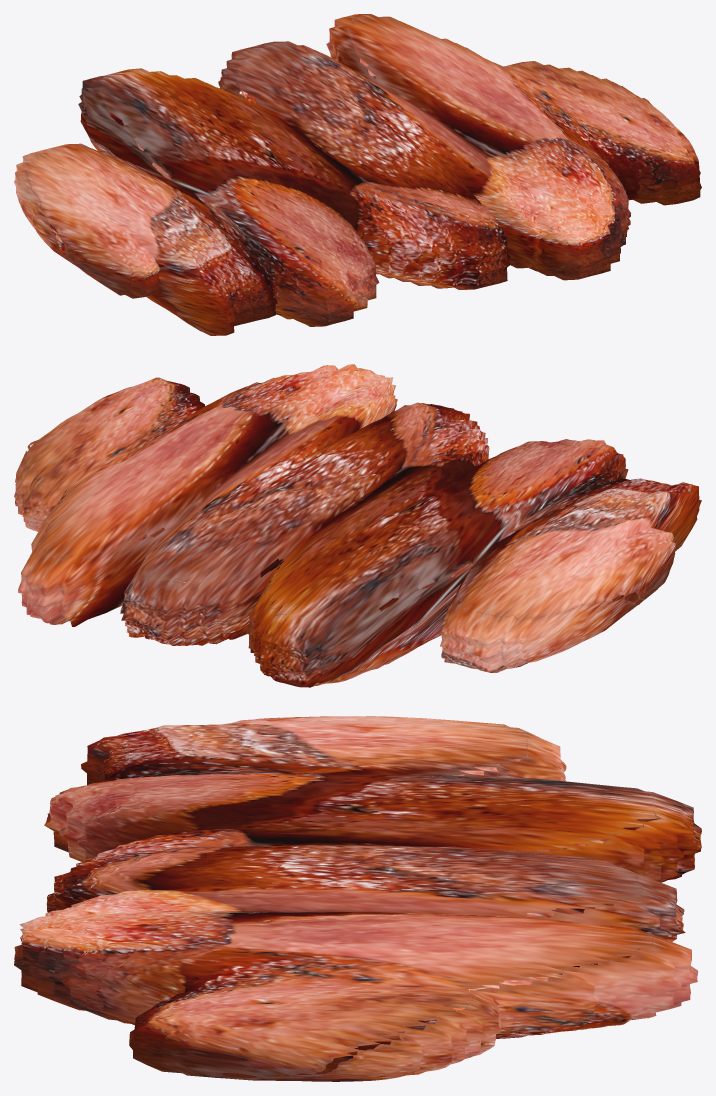
File: sausage.glb
3 renders of one model, top to bottom at view 1: azimuth 30°, elevation 25°; view 2: azimuth 150°, elevation 25°; view 3: azimuth 270°, elevation 25°, orthographic. The views are drawn at different scales.
Visible parts, largest first — view 1: sausage; view 2: sausage; view 3: sausage.
Boxes of the visible parts, x1,y1,x2,y2 form: sausage: [14, 14, 701, 335]; sausage: [14, 364, 701, 687]; sausage: [14, 716, 701, 1081].
Size of the model in its own units: 0.94 by 0.13 by 0.82.
1 material, 1 textured.
